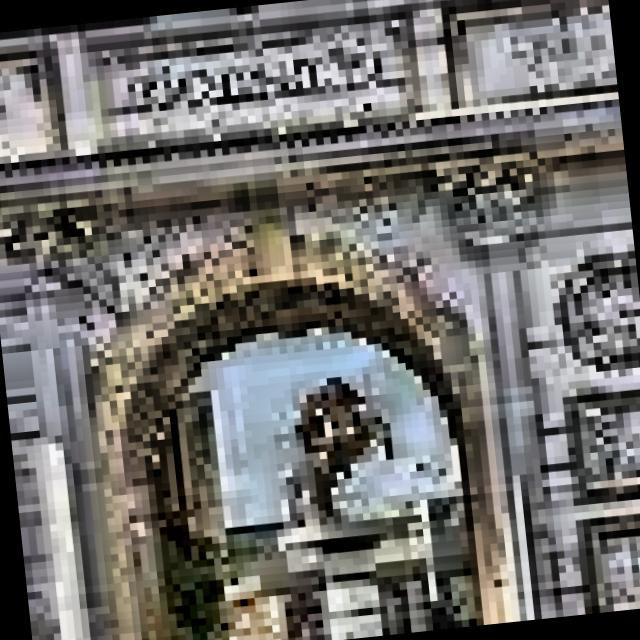alexander the great monument: (264, 365, 421, 640)
triumphal arch: (0, 0, 640, 640)
